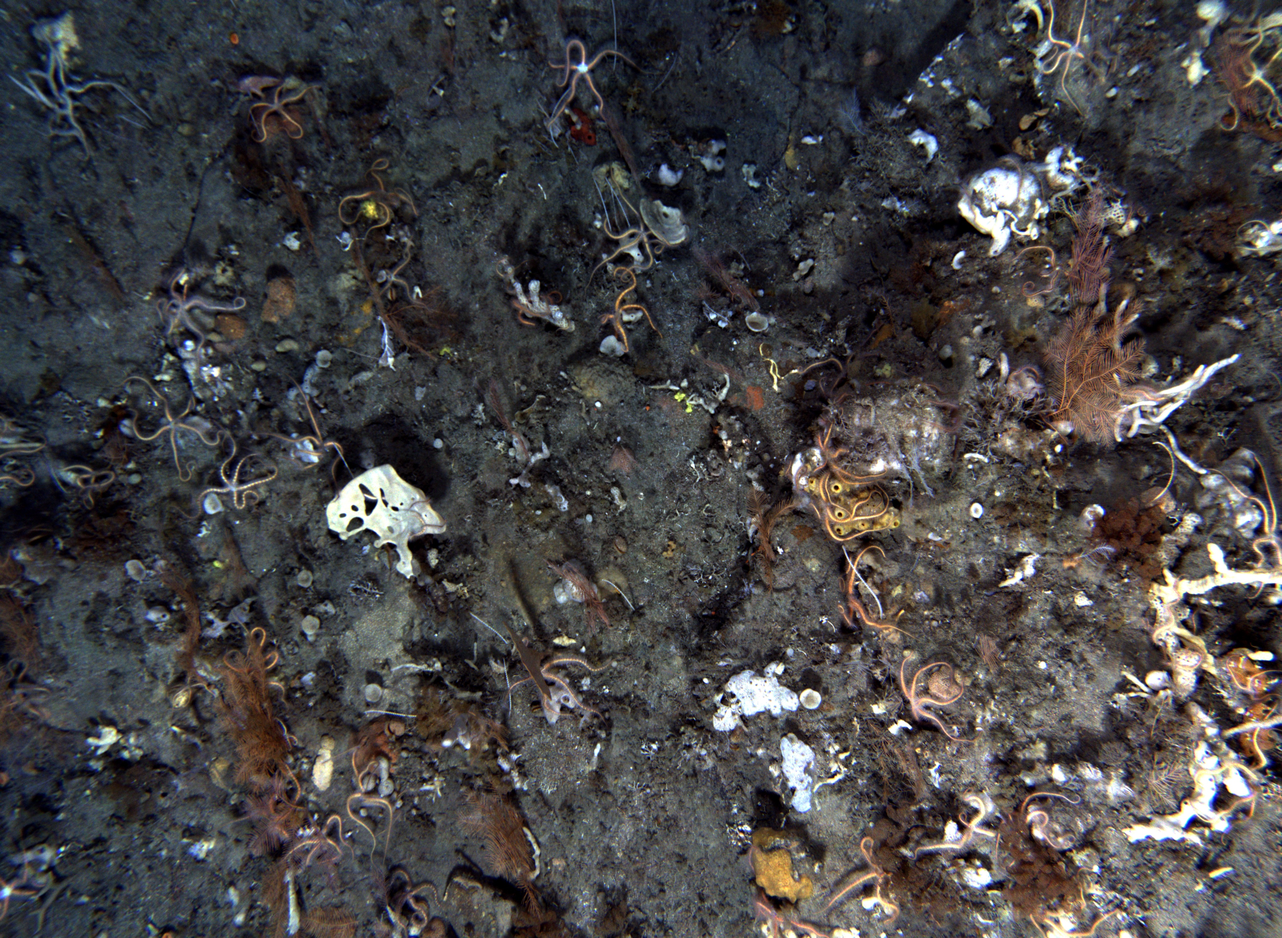Brachionichthyidae: (232, 72, 285, 103)
